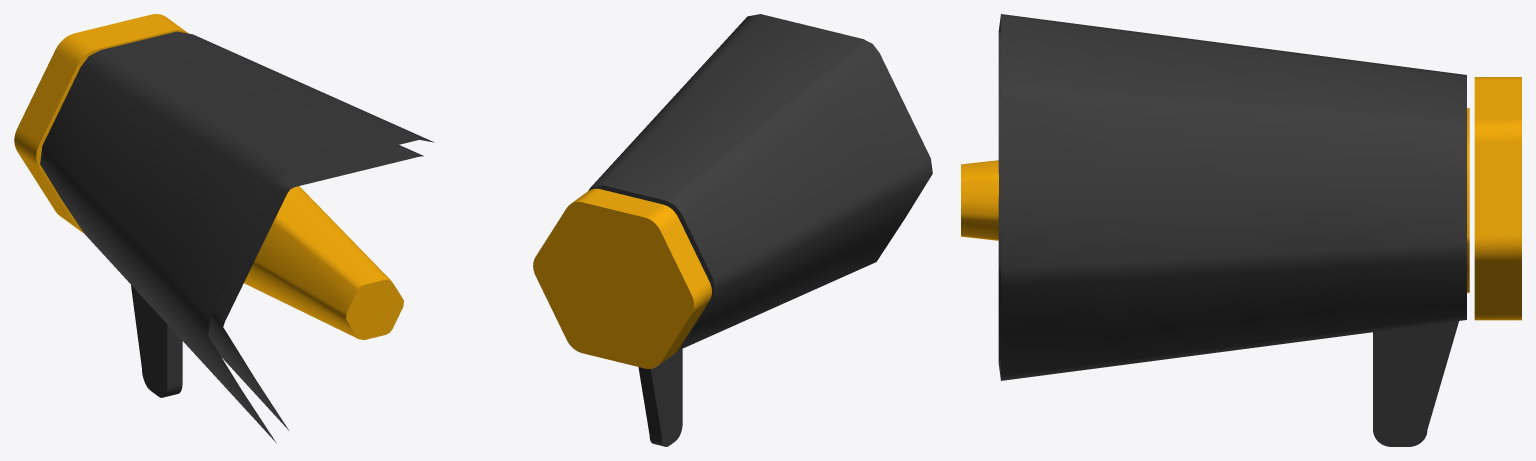
Rendered from AP_Rupor.glb.
3 views of the same model, side by side, from view 1: azimuth 30°, elevation 25°; view 2: azimuth 150°, elevation 25°; view 3: azimuth 270°, elevation 25° (orthographic). The views are drawn at different scales.
Parts seen in each view (by area): view 1: Loft.001, Loft.003, Extrude back cap.001, Handle.001; view 2: Loft.001, Extrude back cap.001, Handle.001; view 3: Loft.001, Extrude back cap.001, Handle.001, Loft.003.
Boxes of the visible parts, x1,y1,x2,y2 form: Loft.001: (40, 31, 434, 443); Loft.003: (244, 186, 403, 339); Extrude back cap.001: (14, 14, 188, 232); Handle.001: (131, 285, 182, 397); Loft.001: (588, 14, 932, 350); Extrude back cap.001: (533, 188, 711, 368); Handle.001: (638, 349, 682, 446); Loft.001: (998, 14, 1466, 380); Extrude back cap.001: (1474, 77, 1521, 320); Handle.001: (1373, 293, 1467, 446); Loft.003: (961, 108, 1469, 292).
Bounding box in the file's own units: 389 × 465 × 595.
